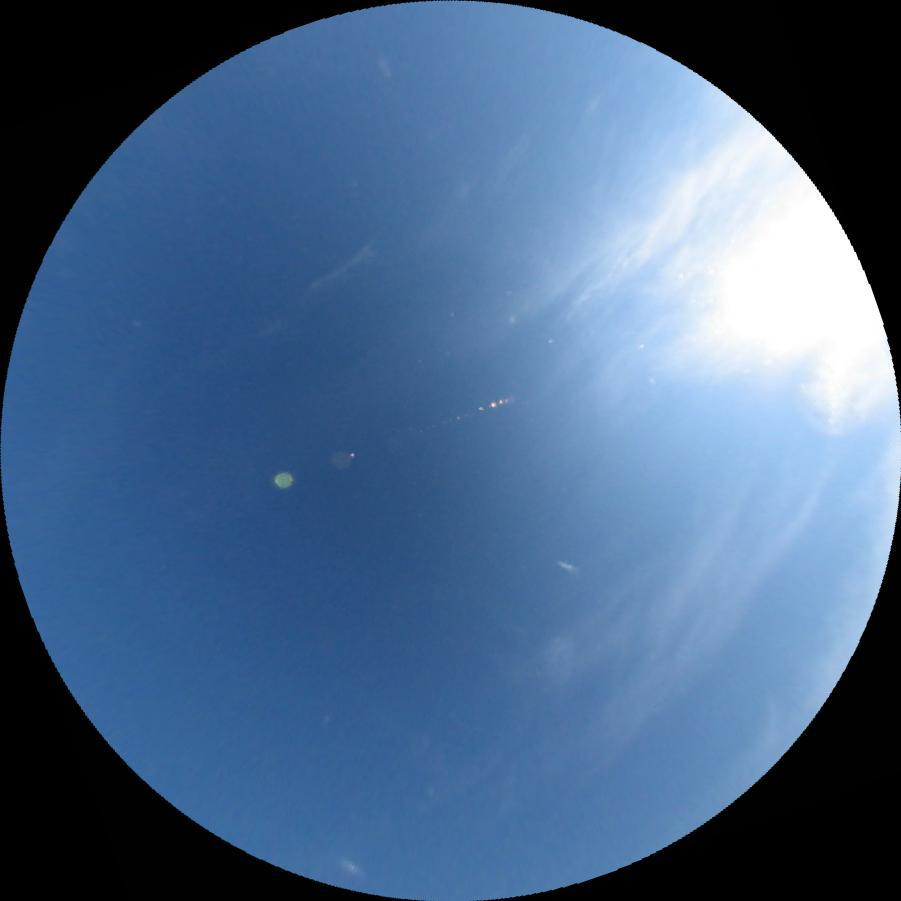sun: (709, 195, 888, 369)
unknow: (558, 561, 575, 571)
